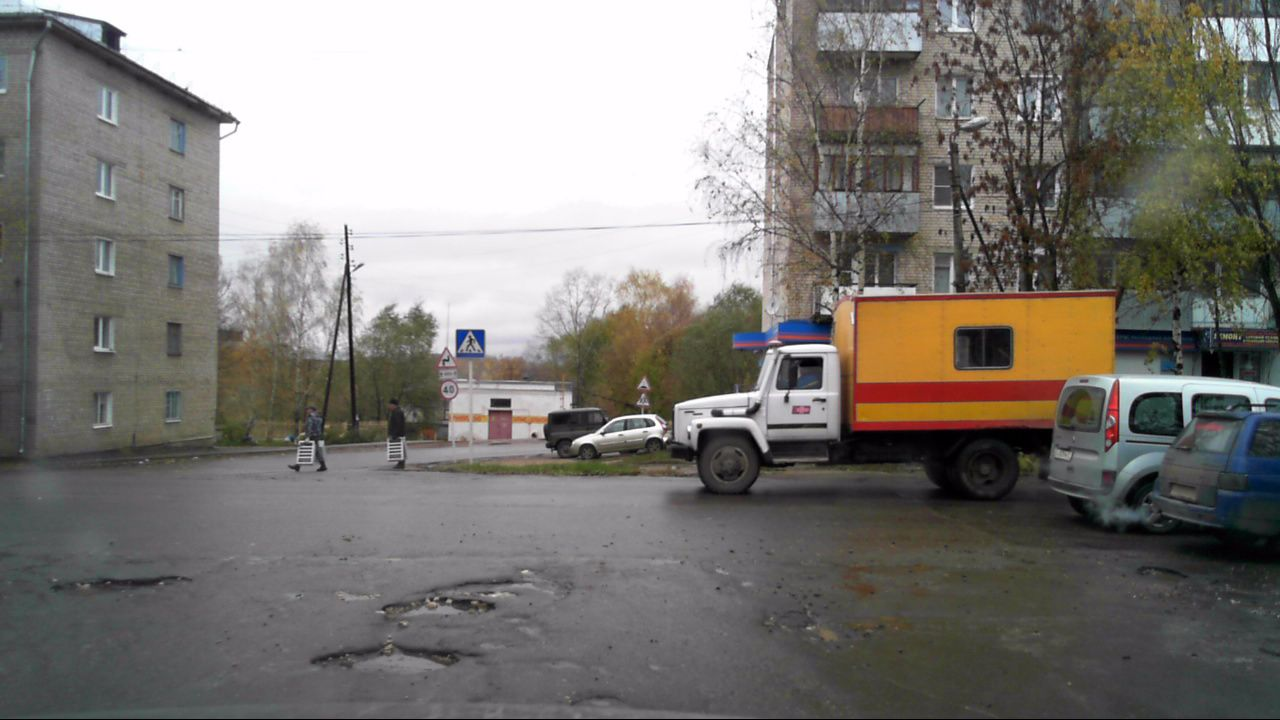speed_warning_40: (437, 377, 461, 399)
